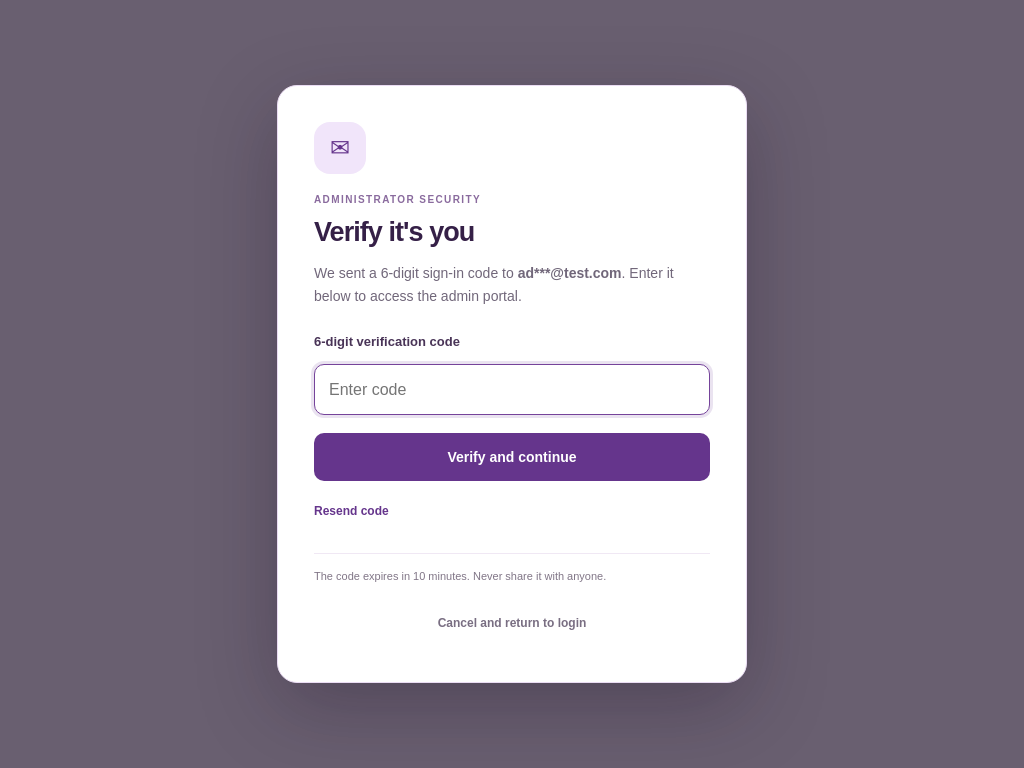
Test: AdminLoginOtpModal › shows the wait time sent by the backend when resending too early
Click the button "Resend code" at [351, 512], box [314,490,389,534]
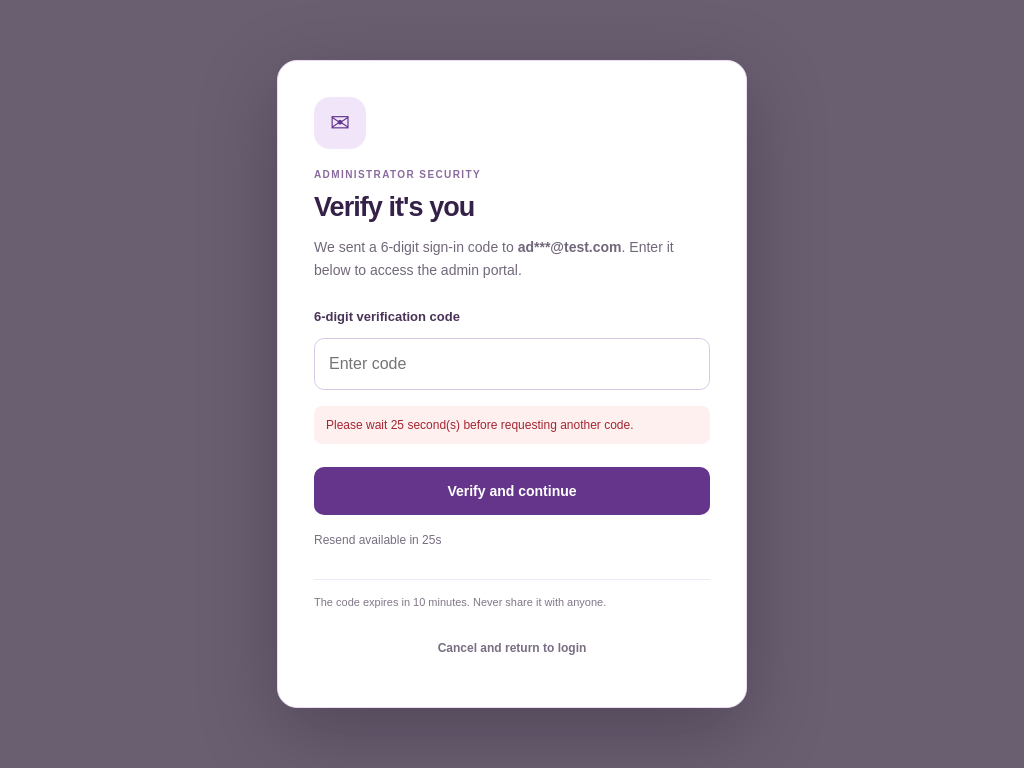
Expected: the message shows "Please wait 25 second(s)", [326,418,634,432]
Expected: the text "Resend available in 25s" is shown, [314,531,441,551]
